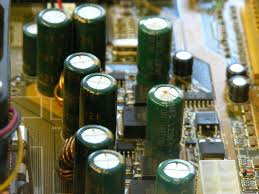capacitor: (37, 7, 73, 92), (141, 84, 185, 152), (64, 50, 99, 132), (135, 12, 170, 88), (83, 73, 118, 142), (77, 125, 114, 190), (73, 4, 109, 70), (23, 17, 39, 79), (172, 45, 196, 82), (229, 76, 251, 102), (226, 58, 247, 76)
